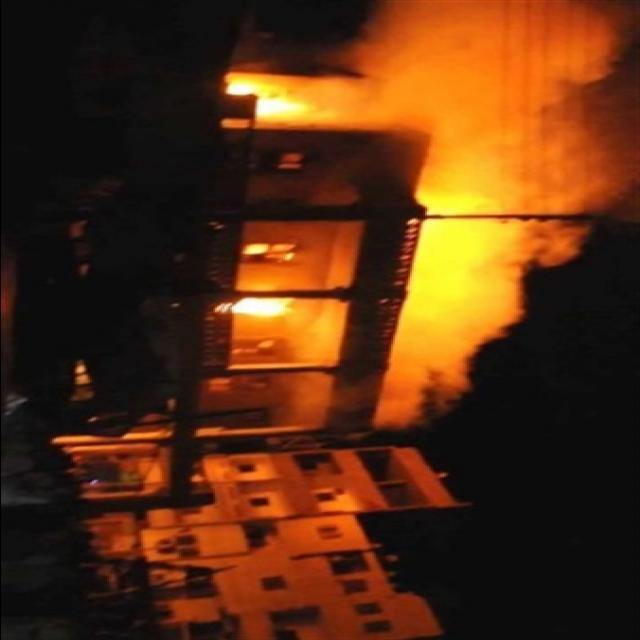Fire: (216, 64, 375, 131), (218, 285, 336, 355)
